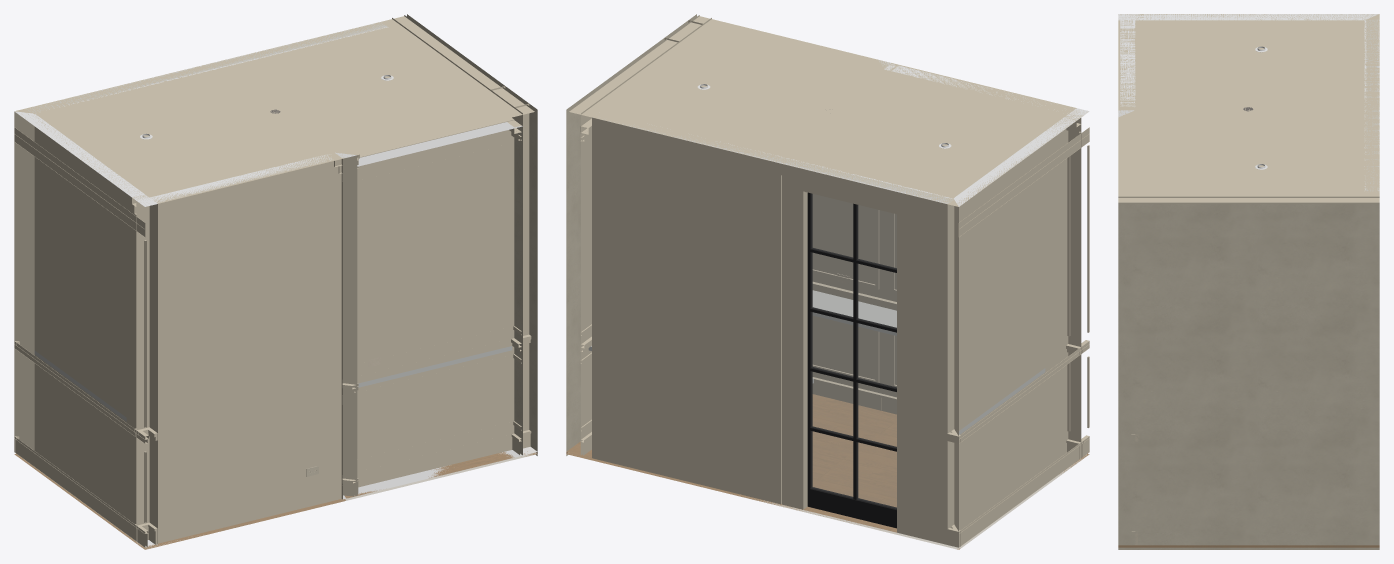
The model's file is pantry-b3641b13cb0c.glb.
The picture shows the model from 3 angles, left to right: view 1: azimuth 30°, elevation 25°; view 2: azimuth 150°, elevation 25°; view 3: azimuth 270°, elevation 25°; orthographic projection.
Visible parts, largest first — view 1: pantry-e1ae12ec9cba52a2, pantry-e64cabe238f3e83a, pantry-2575515a05775d9e, pantry-5b6bbac285e58726, pantry-6a1144f4e43410bb, pantry-e462de76b61e99cf, pantry-1b1dac62f3b0f38e, pantry-ab25ce0be192bde7, pantry-2c29ddcb8551cb02, pantry-e54d813e60c9e7c4, pantry-3b0077416469e01b, pantry-4b4a529ae091588b (+10 smaller); view 2: pantry-bd4023b7987ad736, pantry-2575515a05775d9e, pantry-5b6bbac285e58726, pantry-391f310680cc5508, pantry-e64cabe238f3e83a, pantry-af97eba351c411ae, pantry-3b0077416469e01b, pantry-e1ae12ec9cba52a2, pantry-2c29ddcb8551cb02, pantry-e54d813e60c9e7c4, pantry-1fae004be5e077cf, pantry-af1041973fdfbb5e (+12 smaller); view 3: pantry-af97eba351c411ae, pantry-2575515a05775d9e, pantry-ab25ce0be192bde7, pantry-e462de76b61e99cf, pantry-4b4a529ae091588b, pantry-5b6bbac285e58726, pantry-e1ae12ec9cba52a2, pantry-ecf72e0057751250, pantry-710b1f455b9f0804, pantry-bd4023b7987ad736, pantry-3b0077416469e01b, pantry-76fec1e12e3db62a.
Boxes of the visible parts, x1,y1,x2,y2 form: pantry-e1ae12ec9cba52a2: (149, 154, 341, 543); pantry-e64cabe238f3e83a: (342, 122, 522, 495); pantry-2575515a05775d9e: (15, 15, 534, 203); pantry-5b6bbac285e58726: (14, 111, 149, 540); pantry-6a1144f4e43410bb: (136, 197, 157, 546); pantry-e462de76b61e99cf: (514, 104, 537, 455); pantry-1b1dac62f3b0f38e: (135, 434, 512, 524); pantry-ab25ce0be192bde7: (490, 86, 529, 431); pantry-2c29ddcb8551cb02: (14, 437, 145, 547); pantry-e54d813e60c9e7c4: (14, 127, 145, 236); pantry-3b0077416469e01b: (14, 451, 537, 549); pantry-4b4a529ae091588b: (35, 27, 391, 116); pantry-bd4023b7987ad736: (592, 117, 954, 544); pantry-2575515a05775d9e: (569, 15, 1087, 206); pantry-5b6bbac285e58726: (953, 114, 1081, 547); pantry-391f310680cc5508: (811, 194, 896, 508); pantry-e64cabe238f3e83a: (812, 194, 883, 393); pantry-af97eba351c411ae: (566, 37, 679, 455); pantry-3b0077416469e01b: (566, 394, 1089, 549); pantry-e1ae12ec9cba52a2: (883, 64, 1067, 397); pantry-2c29ddcb8551cb02: (959, 437, 1089, 547); pantry-e54d813e60c9e7c4: (958, 127, 1089, 236); pantry-1fae004be5e077cf: (810, 487, 896, 528); pantry-af1041973fdfbb5e: (807, 192, 812, 506); pantry-af97eba351c411ae: (1183, 196, 1379, 545); pantry-2575515a05775d9e: (1118, 14, 1379, 203); pantry-ab25ce0be192bde7: (1135, 196, 1182, 545); pantry-e462de76b61e99cf: (1118, 196, 1135, 545); pantry-4b4a529ae091588b: (1355, 20, 1364, 192); pantry-5b6bbac285e58726: (1135, 14, 1378, 20); pantry-e1ae12ec9cba52a2: (1120, 20, 1135, 106); pantry-ecf72e0057751250: (1368, 19, 1376, 192); pantry-710b1f455b9f0804: (1135, 14, 1144, 109); pantry-bd4023b7987ad736: (1364, 19, 1379, 191); pantry-3b0077416469e01b: (1118, 545, 1379, 547); pantry-76fec1e12e3db62a: (1118, 547, 1379, 549).
Size of the model in its own units: 3.62 by 3.05 by 2.09.
21 materials, 4 textured.
